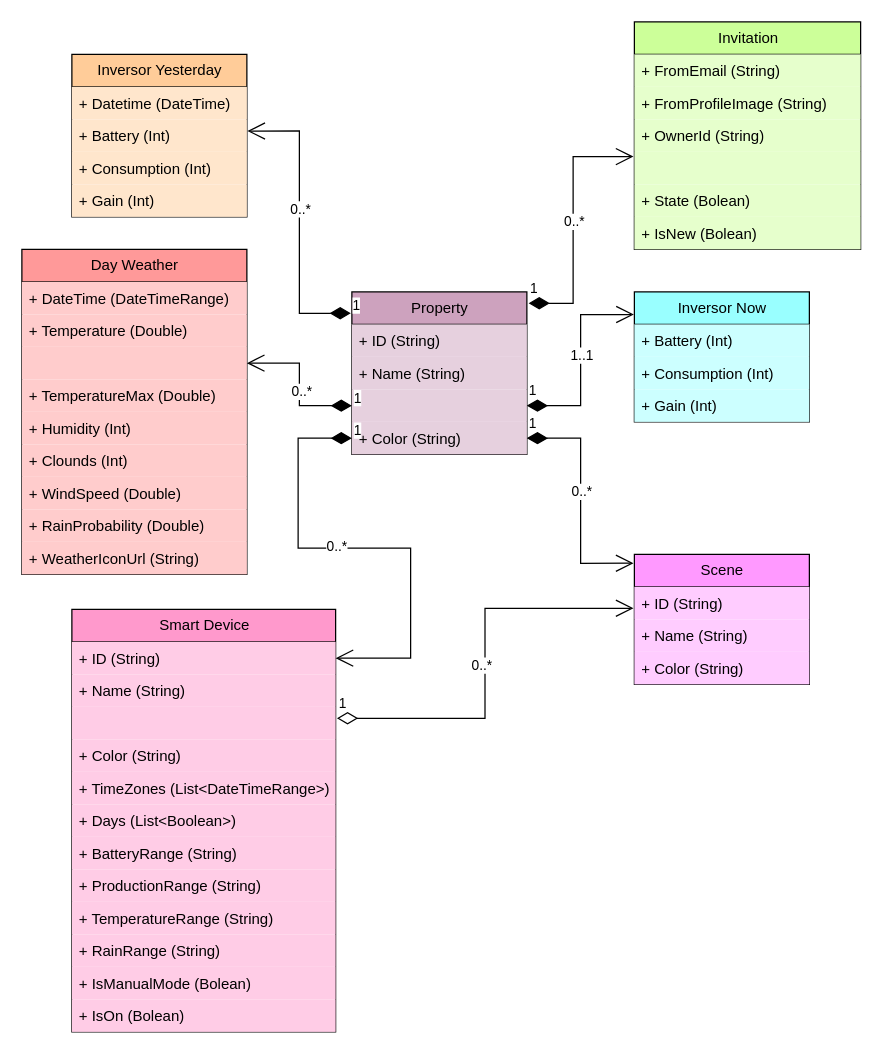
Image size: 883x1058. Some labels were removed from this diagram. The shapes that lost their labels are listed below. From the top down, each one's centre as x and y in pixels, then its label:
At (x=747, y=167): "+ PropertyName (String)".
At (x=133, y=362): "+ TemperatureMin (Double)".
At (x=438, y=405): "+ Location (String)".
At (x=203, y=722): "+ Type (String)".
